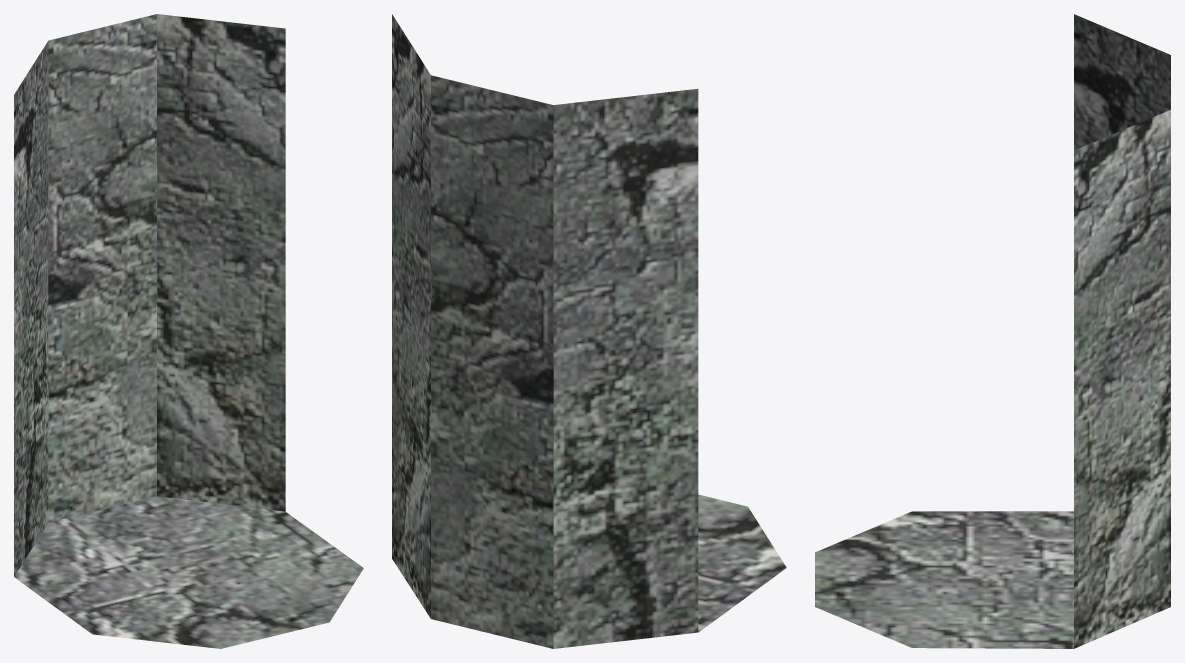
Rendered from R1129_DMSPRITEDEF.obj.
3 views of the same model, side by side, from view 1: azimuth 30°, elevation 25°; view 2: azimuth 150°, elevation 25°; view 3: azimuth 270°, elevation 25° (orthographic). The views are drawn at different scales.
Size of the model in its own units: 80 by 136 by 88.
1 material, 1 textured.
